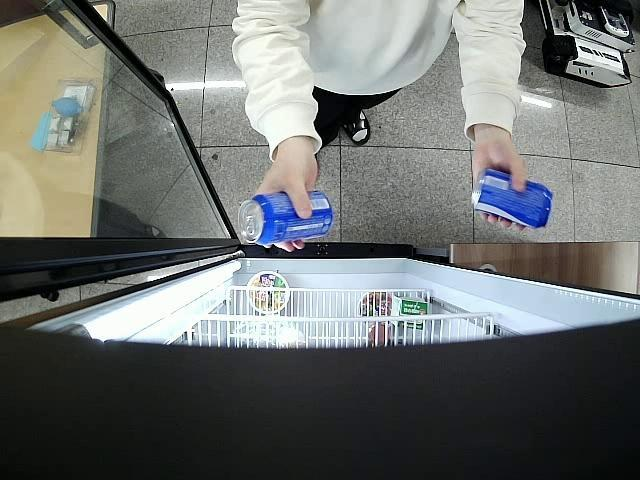13_pocariSweat: (240, 186, 334, 241), (471, 168, 554, 227)
